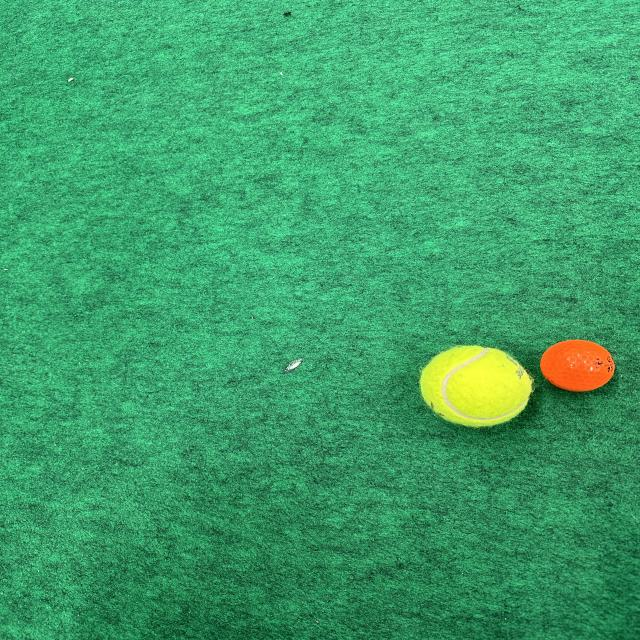ball: (538, 338, 617, 394)
